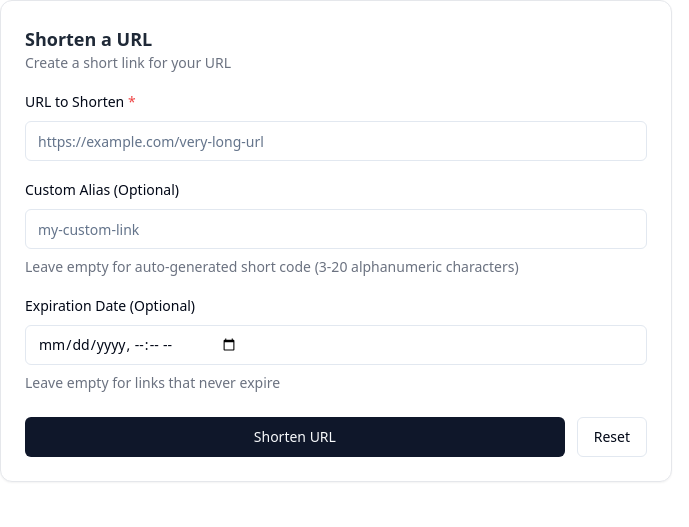
it: CreateUrlForm › shows validation error for invalid custom alias
This screenshot has width=689, height=527.
Type "https://example.com" into the field labelled "URL to Shorten *" at (336, 141), box [25, 121, 647, 161]
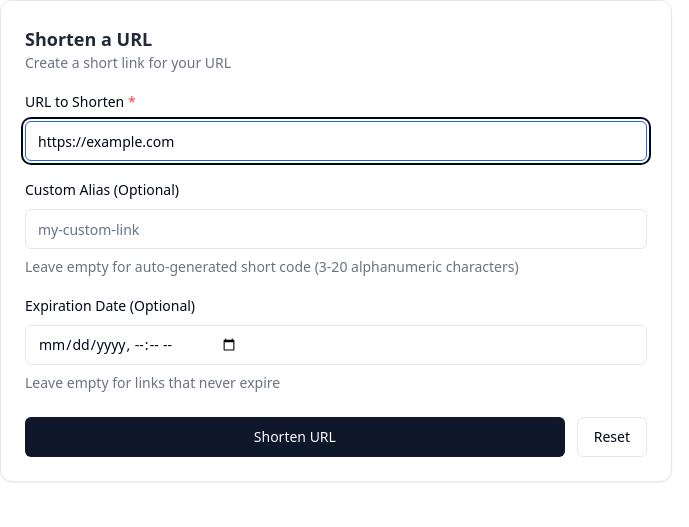
Type "ab" into the field labelled "Custom Alias (Optional)" at (336, 229), box [25, 209, 647, 249]
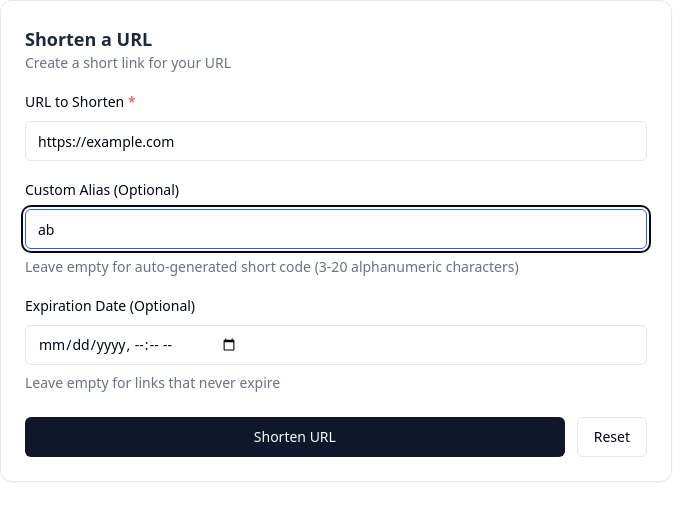
Click the button "Shorten URL" at (295, 437), box [25, 417, 565, 457]
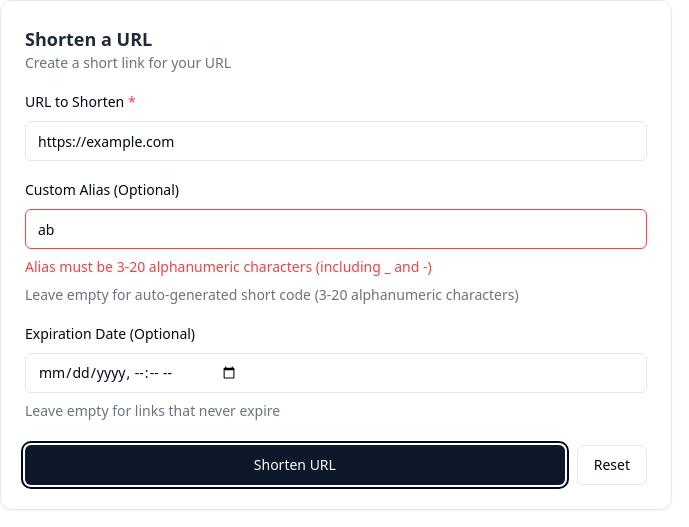
Check: the text "Alias must be 3-20 alphanumeric characters" is shown, box [25, 257, 432, 276]
